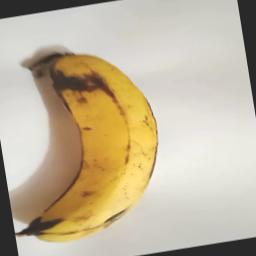Banana Unripe: (0, 35, 174, 250)
